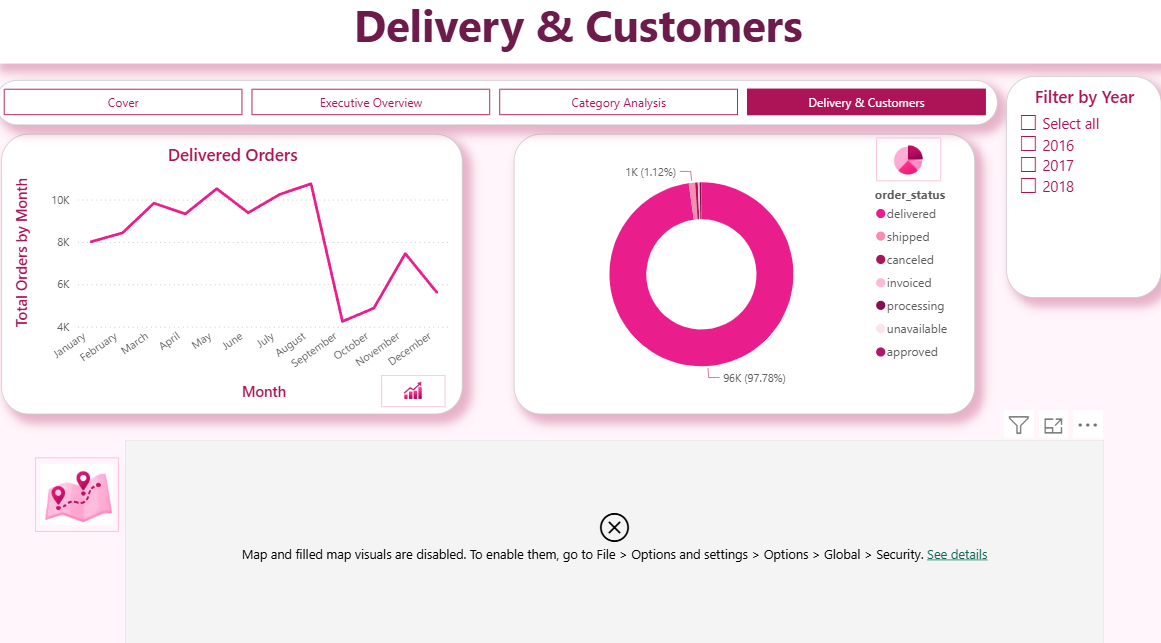

What the dashboard file says about the page in this screenshot:
{"tool":"powerbi","page":{"name":"Delivery & Customers","canvas":[1280,720],"ordinal":3},"visuals":[{"type":"donutChart","fields":{"Category":["olist_orders_dataset.order_status"],"Y":["Key Measures.Total Orders"]},"box":[569,157.2,506.6,308.2],"z":0},{"type":"map","fields":{"Category":["olist_customers_dataset.customer_state"],"Size":["Key Measures.Total Orders"]},"box":[143,494.1,1074.8,225.7],"z":1000},{"type":"lineChart","title":"Delivered Orders","fields":{"Category":["olist_orders_dataset.order_purchase_timestamp.Variation.Date Hierarchy.Month"],"Y":["Key Measures.Total Orders"]},"box":[7,157.2,506.6,308.2],"z":2000},{"type":"textbox","box":[0,0,1280.2,80.8],"z":3000},{"type":"pageNavigator","box":[0,98.2,1101,49.6],"z":4000},{"type":"image","box":[424.1,423.2,70.2,35.1],"z":5000},{"type":"image","box":[967.6,161.6,71.1,48.3],"z":6000},{"type":"listSlicer","title":"Filter by Year","fields":{"Values":["olist_orders_dataset.order_purchase_timestamp.Variation.Date Hierarchy.Year"]},"box":[1109.7,94.8,170.3,243.2],"z":7000},{"type":"image","box":[43.9,512.8,92.2,81.7],"z":8000}]}

Visuals, with their boxes in screenshot pixels (x1, y1, x2, y2), scaled from the page's 1280x720 canvas onto the 1161x643 screenshot:
donutChart - olist_orders_dataset.order_status x Key Measures.Total Orders: left=516, top=140, right=976, bottom=416
map - olist_customers_dataset.customer_state x Key Measures.Total Orders: left=130, top=441, right=1105, bottom=642
"Delivered Orders" lineChart: left=6, top=140, right=466, bottom=416
textbox: left=0, top=0, right=1160, bottom=72
pageNavigator: left=0, top=88, right=999, bottom=132
image: left=385, top=378, right=448, bottom=409
image: left=878, top=144, right=942, bottom=187
"Filter by Year" listSlicer: left=1007, top=85, right=1160, bottom=302
image: left=40, top=458, right=123, bottom=531
